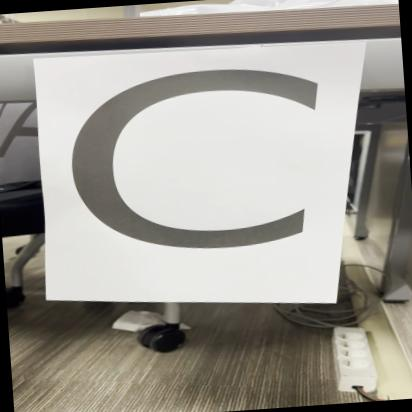seat: (43, 33, 358, 313)
